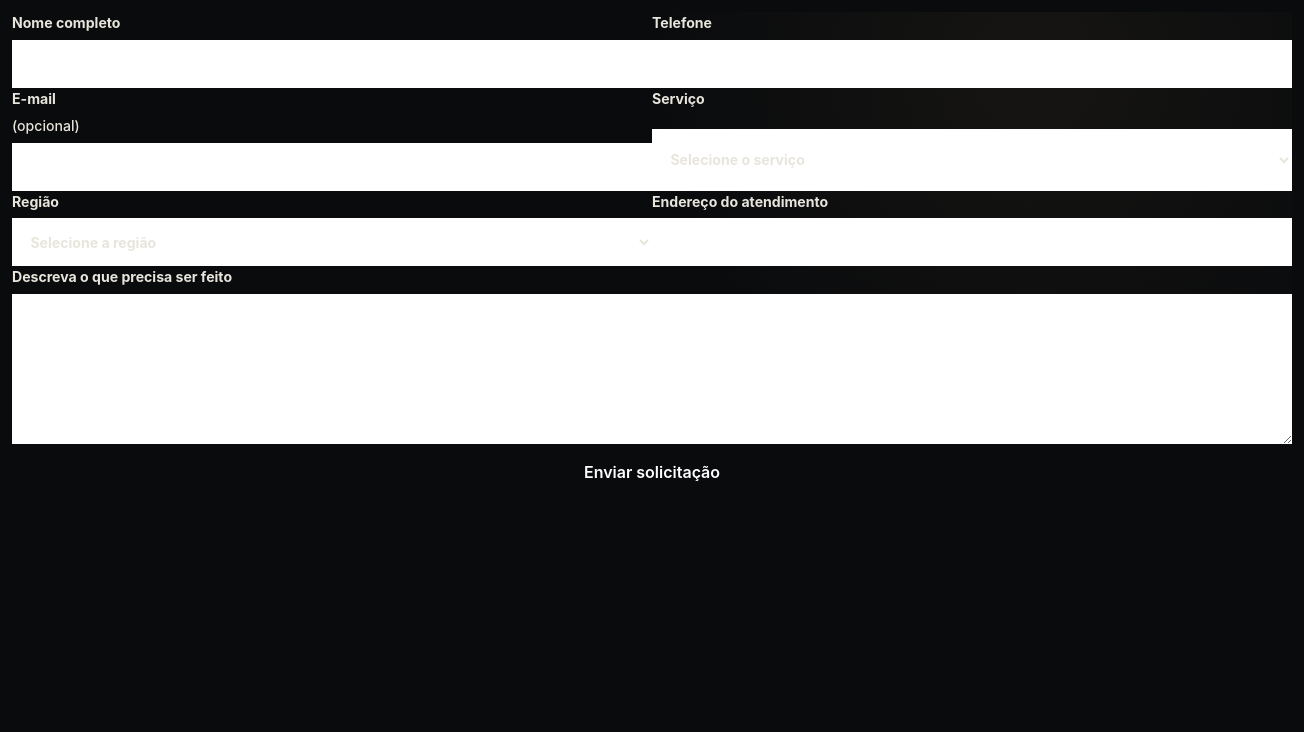
Test: ServiceRequestForm › ignora slug inválido, valida e foca o primeiro campo
Check: the dropdown labelled "Serviço" shows "Selecione o serviço", box [652, 129, 1292, 191]
Click the button "Enviar solicitação" at (652, 472), box [12, 444, 1292, 500]
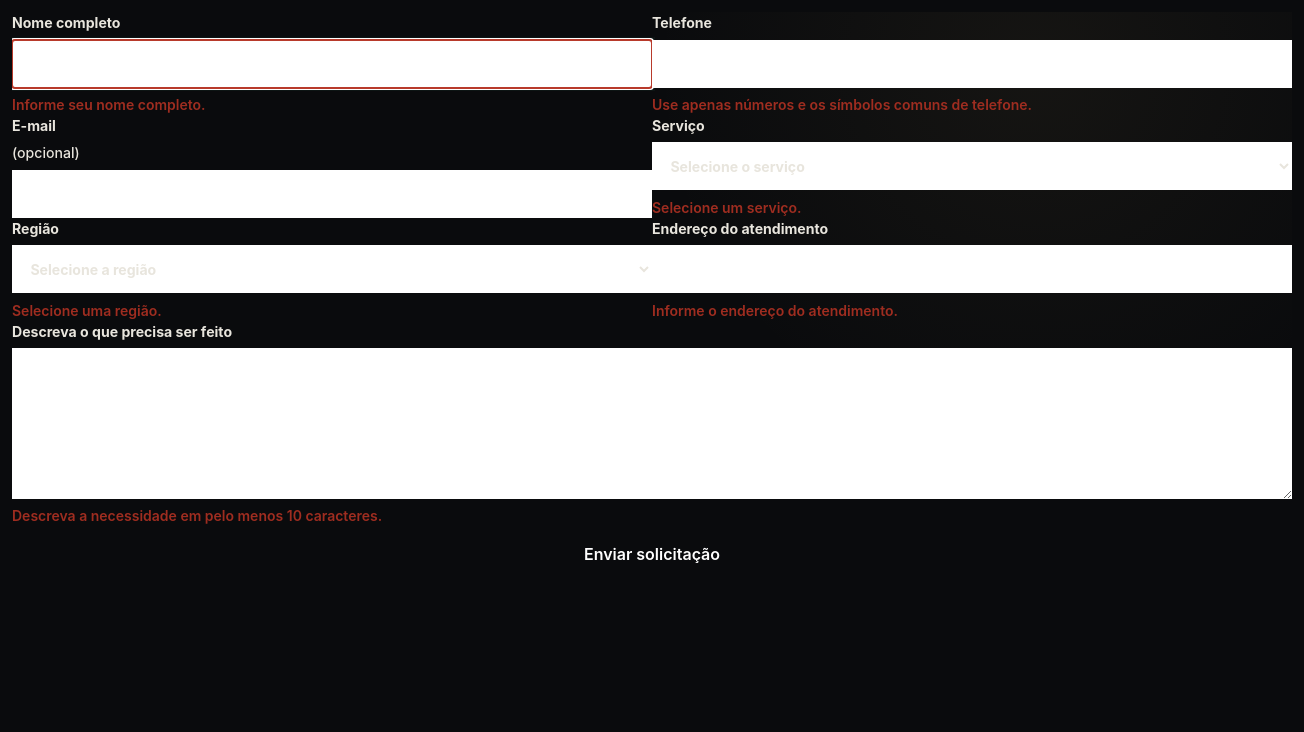
Check: the text "Informe seu nome completo." is shown, box [12, 96, 206, 113]
